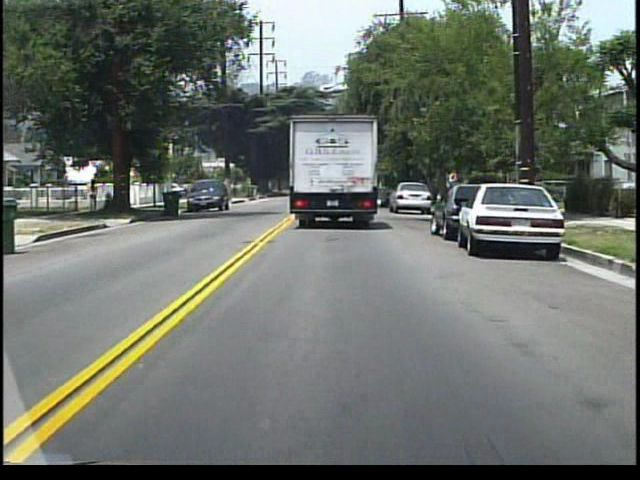person: (89, 179, 102, 213)
